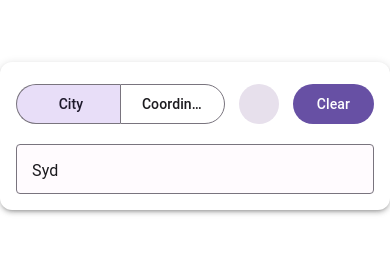
Test: SearchBar Component › City Mode › reopens the dropdown on focus when there are results
Focus the field named "Search city": x=195, y=170 [16,146,374,194]
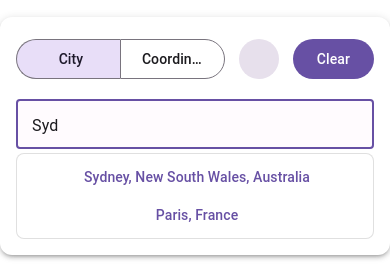
Now the text "Sydney, New South Wales, Australia" is shown, box [84,167,310,187]
